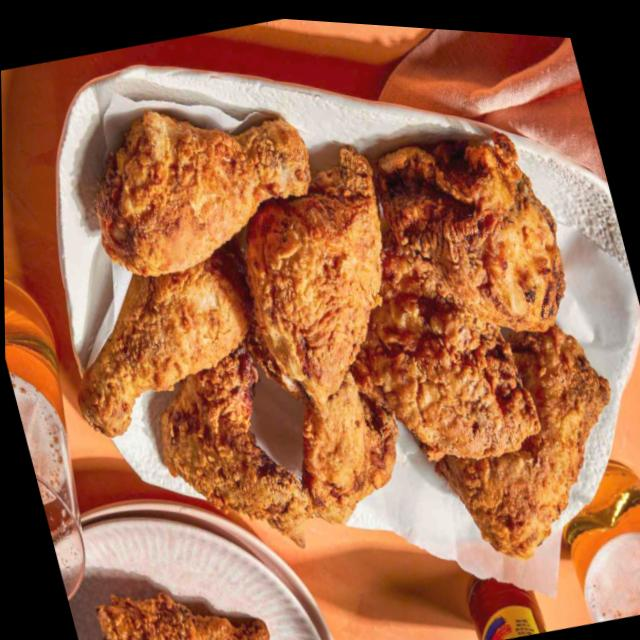drink: (4, 256, 122, 604), (548, 448, 640, 628)
fried_chicken: (216, 135, 458, 538), (402, 309, 640, 583), (69, 69, 331, 300), (359, 115, 580, 364), (49, 244, 273, 451), (337, 272, 545, 488), (138, 329, 319, 575), (82, 556, 279, 640)
